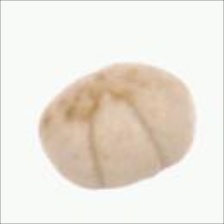L5: (87, 89, 168, 191), (66, 64, 139, 122)
L6: (36, 60, 201, 194)
